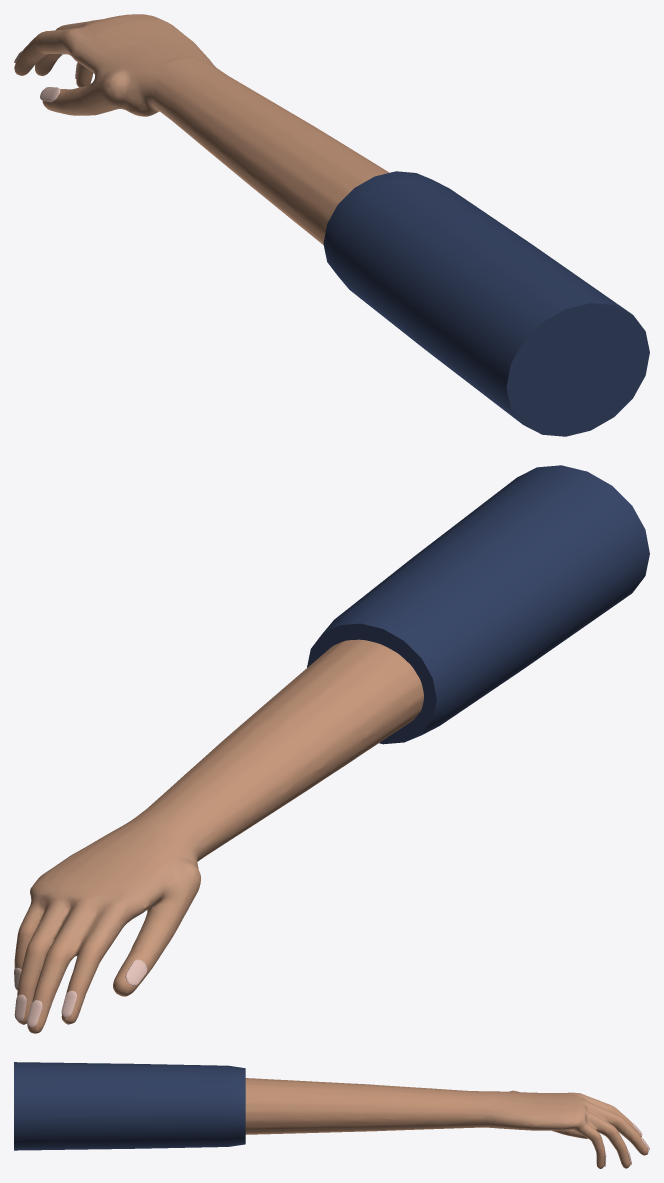
File: tay_kep.glb
The picture shows the model from 3 angles, top to bottom: view 1: azimuth 30°, elevation 25°; view 2: azimuth 150°, elevation 25°; view 3: azimuth 270°, elevation 25°; orthographic projection. The views are drawn at different scales.
Parts seen in each view (by area): view 1: tay_kep; view 2: tay_kep; view 3: tay_kep.
Part boxes in pixels (bbox=[...]): tay_kep: bbox=[14, 14, 649, 436]; tay_kep: bbox=[14, 465, 649, 1033]; tay_kep: bbox=[14, 1062, 649, 1168].
Size of the model in its own units: 0.116 by 0.1234 by 0.7407.
